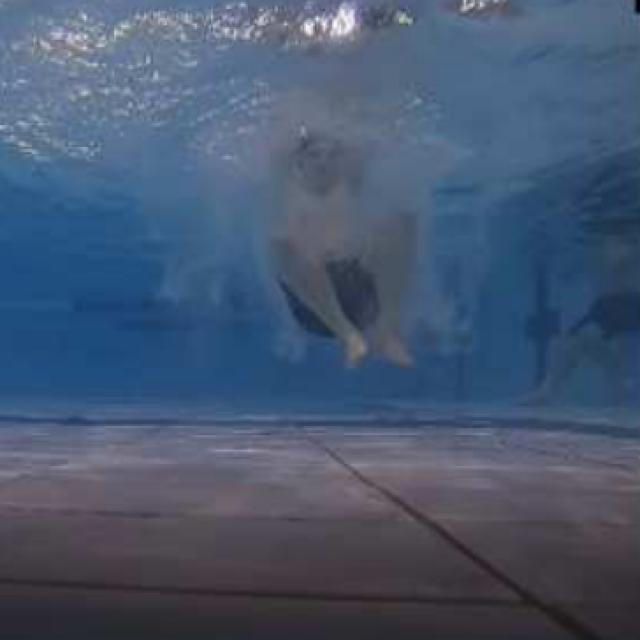Drowning: (276, 139, 417, 370)
